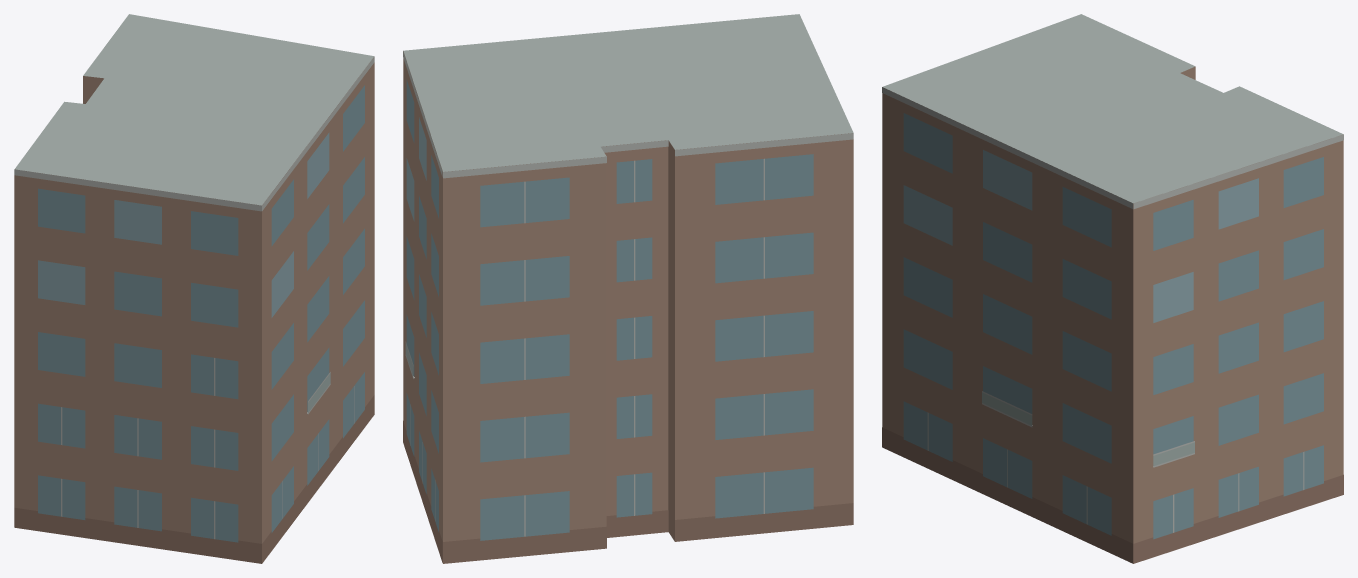
Rendered from survey-upis-33029450.glb.
3 views of the same model, side by side, from view 1: azimuth 30°, elevation 25°; view 2: azimuth 150°, elevation 25°; view 3: azimuth 270°, elevation 25° (orthographic). The views are drawn at different scales.
Visible parts, largest first — view 1: survey-upis-33029450.tmp; view 2: survey-upis-33029450.tmp; view 3: survey-upis-33029450.tmp.
Boxes of the visible parts, left/top/right/bottom form: survey-upis-33029450.tmp: left=14, top=14, right=374, bottom=563; survey-upis-33029450.tmp: left=403, top=14, right=853, bottom=563; survey-upis-33029450.tmp: left=882, top=14, right=1343, bottom=563.
Bounding box in the file's own units: 16.58 × 14.7 × 17.07.
